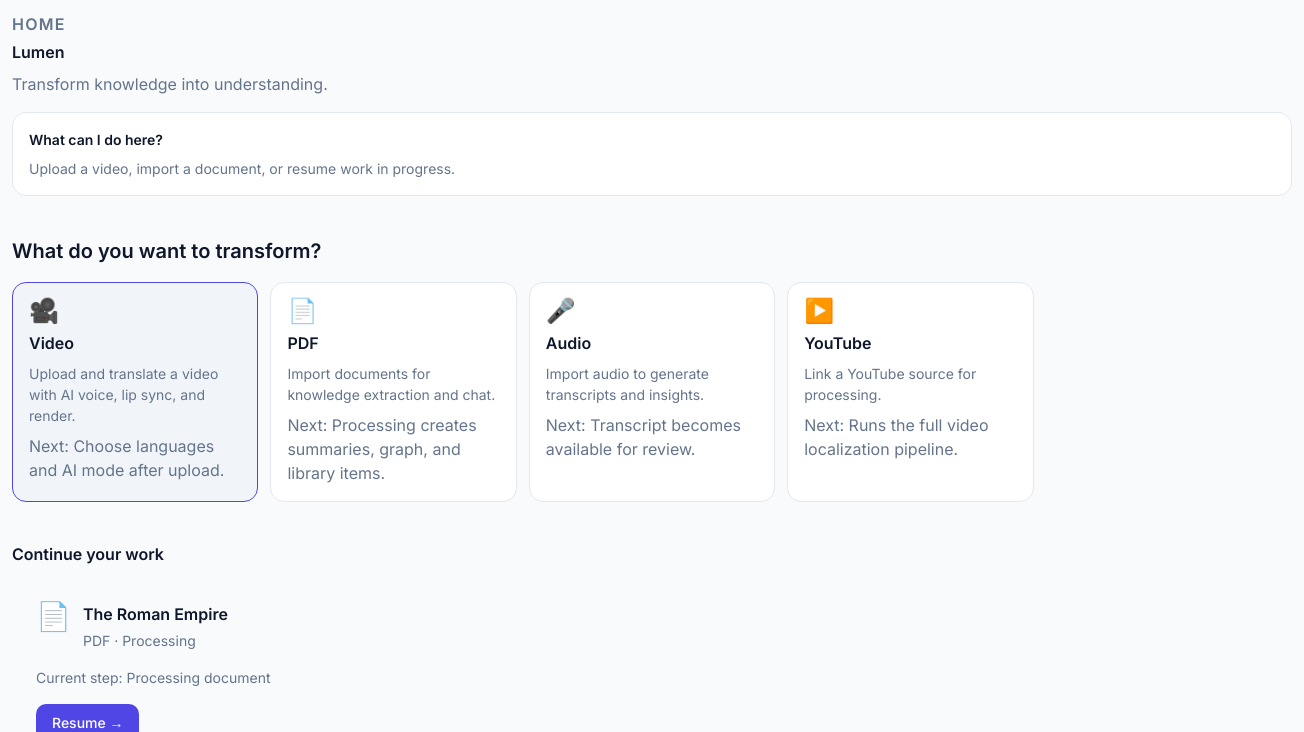
Test: HomeMissionControl › navigates from create video card to upload page
Click the link with aria-label "Create Video" at (135, 392), box [12, 282, 258, 502]
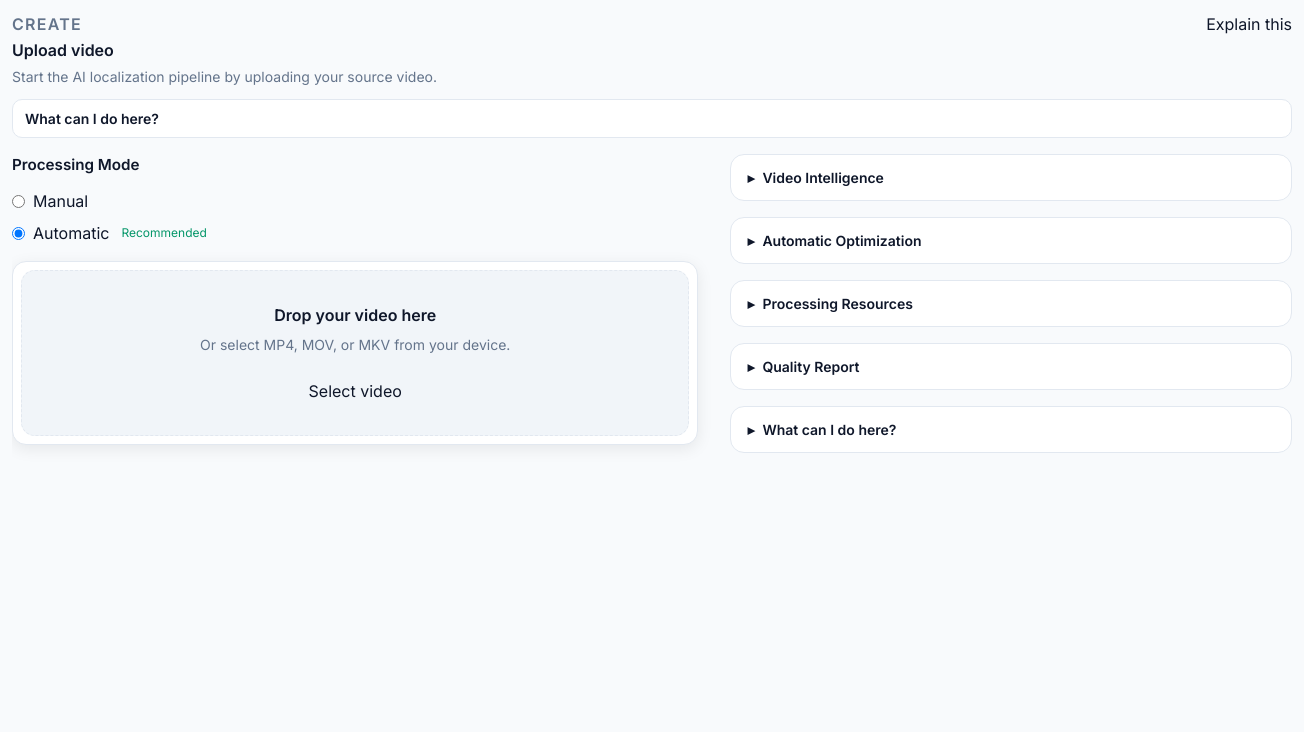
Expected: the heading "Upload video" is shown, [12, 40, 114, 60]
